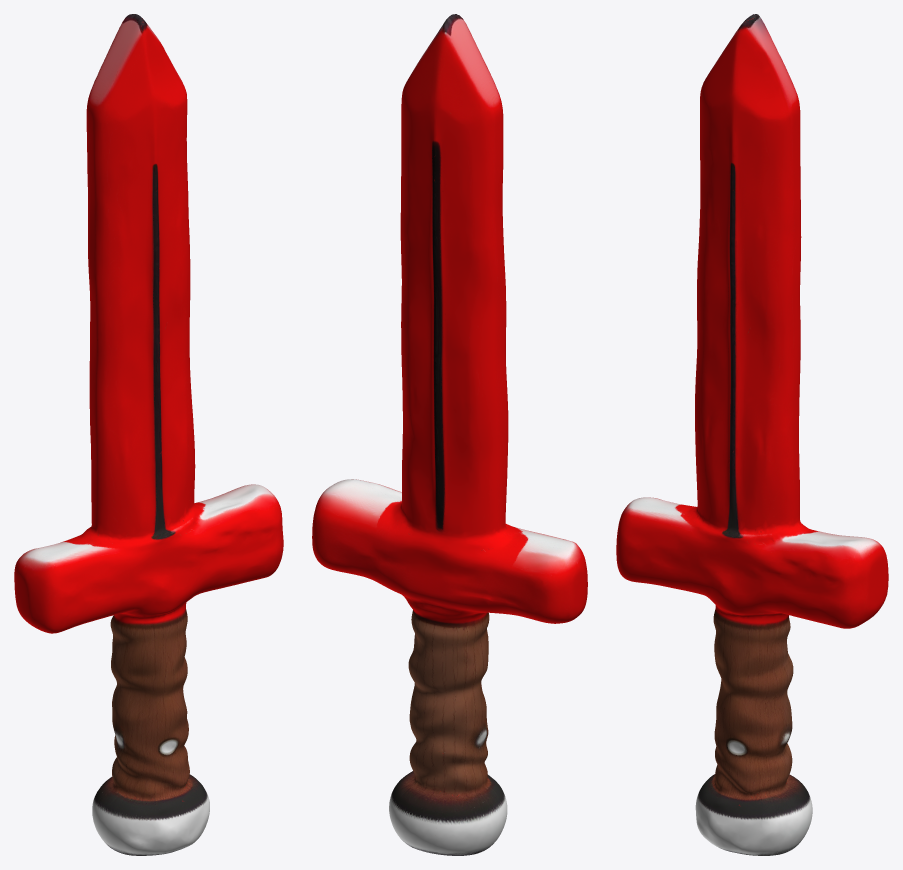
File: meshy_019dc6d4-e167-7112-8e12-2486901c5734.glb
3 renders of one model, left to right at view 1: azimuth 30°, elevation 25°; view 2: azimuth 150°, elevation 25°; view 3: azimuth 330°, elevation 25°, orthographic.
Visible parts, largest first — view 1: Mesh_0; view 2: Mesh_0; view 3: Mesh_0.
Part boxes in pixels (x1,y1,x2,y2): Mesh_0: (14,14,283,855); Mesh_0: (312,14,587,855); Mesh_0: (616,14,888,855).
Size of the model in its own units: 0.6126 by 1.91 by 0.2386.
1 material, 1 textured.
